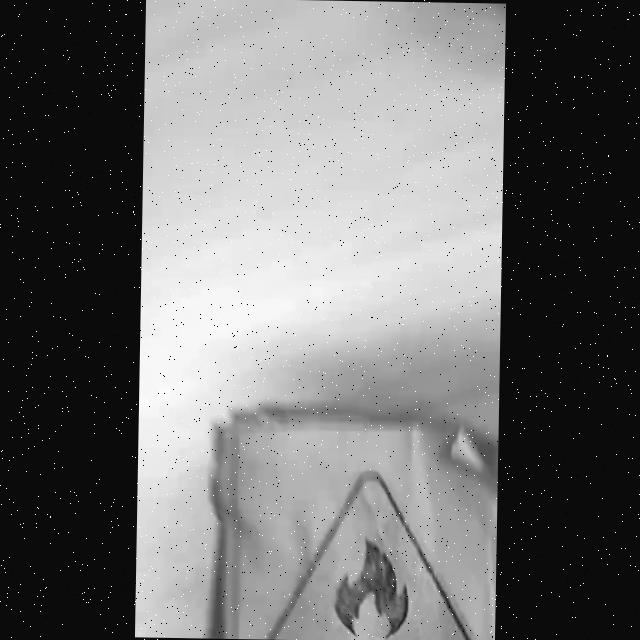Fire: (264, 470, 473, 640)
